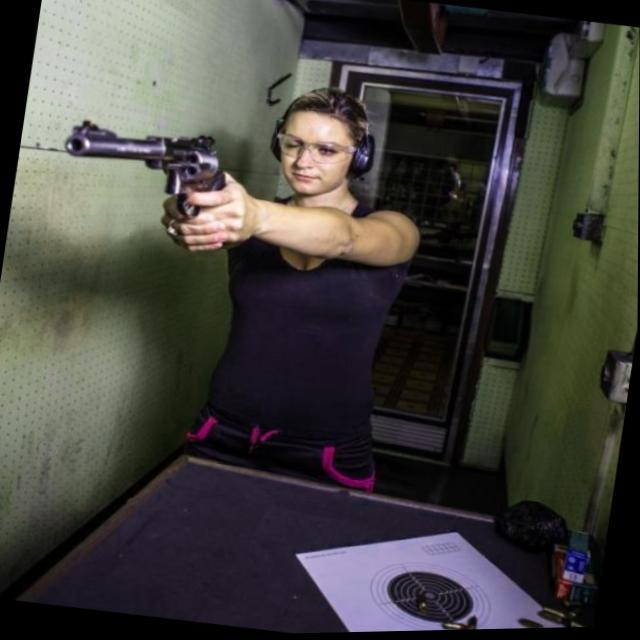weapon: (55, 113, 234, 226)
